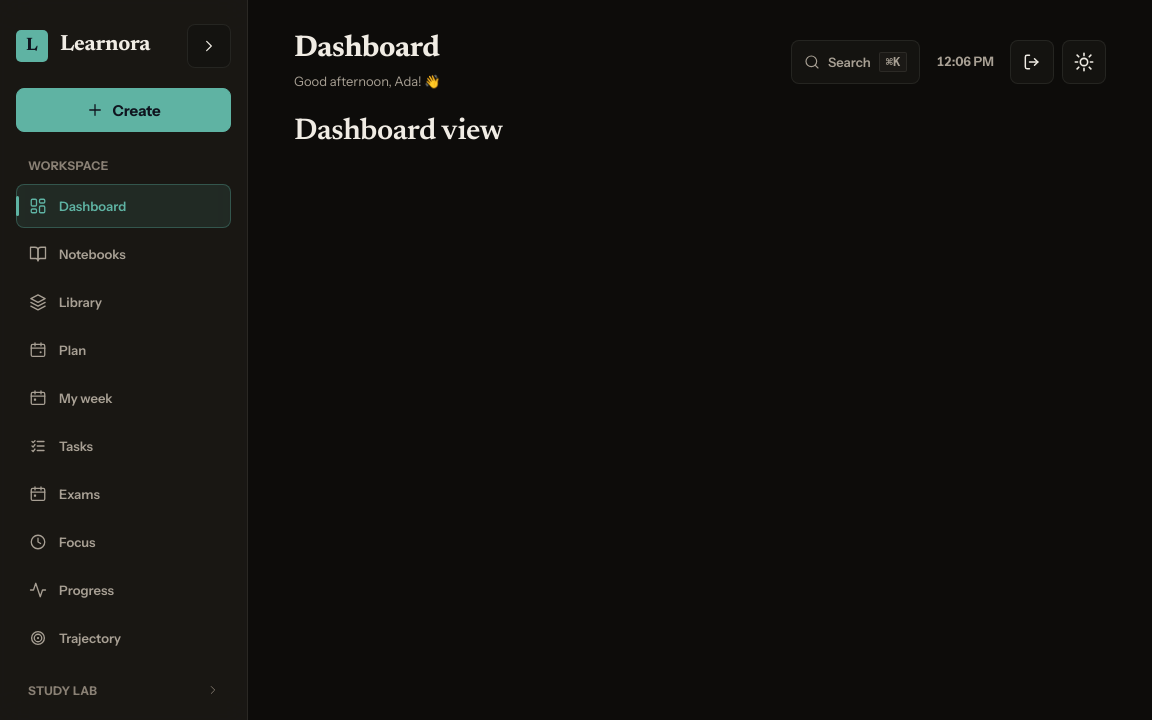
AppShell › opens the create modal from the sidebar's Create button
What coordinates should you click on to do the following:
click the button "Create"
I would click on:
 (124, 110)
Its box is [16,88,231,132].
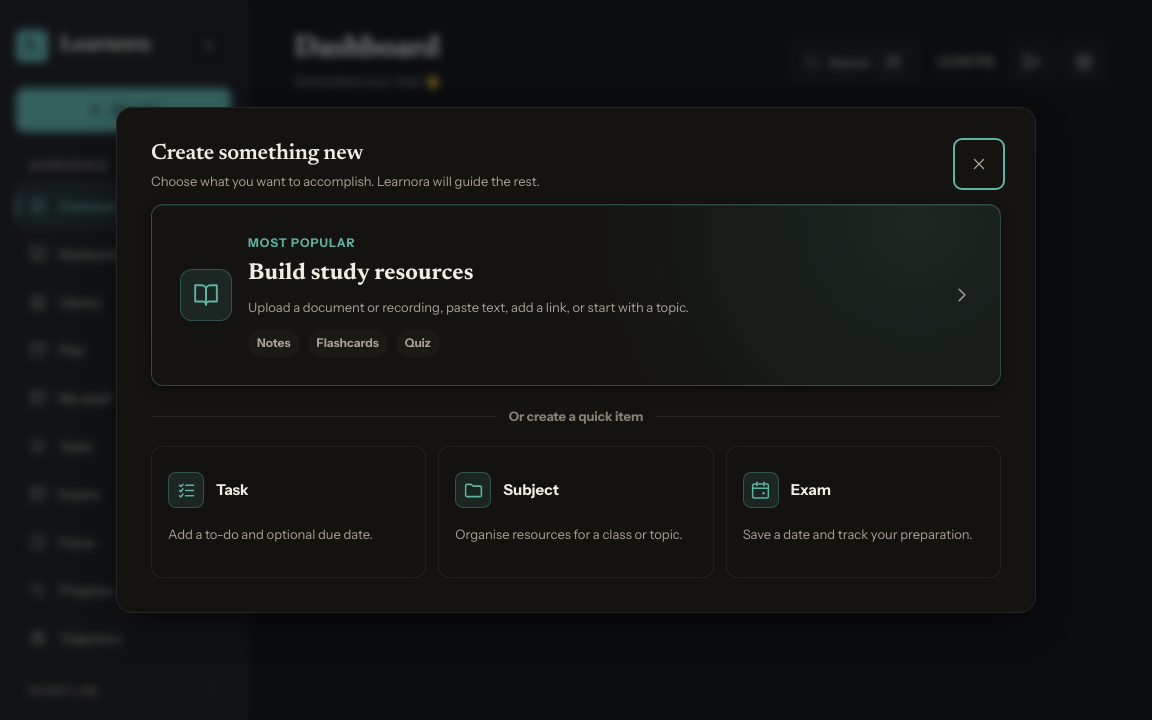
Expected: the dialog "Create something new" is shown, [116,107,1036,614]
